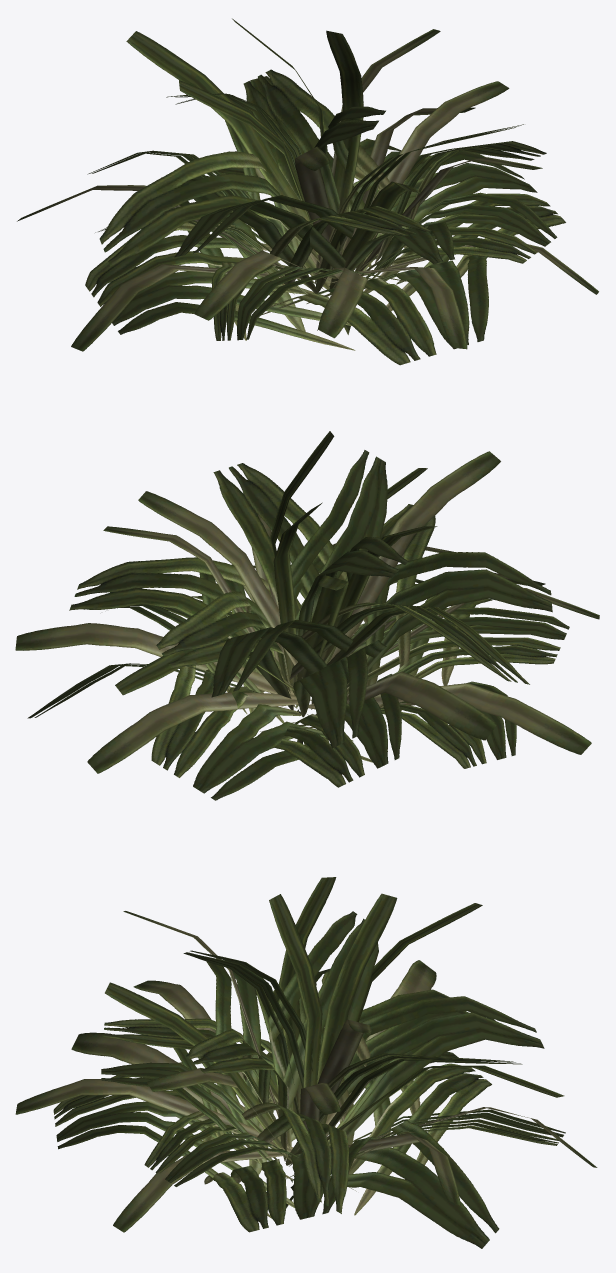
The model's file is reeds2.glb.
The picture shows the model from 3 angles, top to bottom: view 1: azimuth 30°, elevation 25°; view 2: azimuth 150°, elevation 25°; view 3: azimuth 270°, elevation 25°; orthographic projection.
Visible parts, largest first — view 1: Reeds2; view 2: Reeds2; view 3: Reeds2.
Boxes of the visible parts, <box> form: Reeds2: <box>17,18,598,365</box>; Reeds2: <box>15,431,599,800</box>; Reeds2: <box>15,877,597,1248</box>.
Bounding box in the file's own units: 3.85 × 2.39 × 3.98.
1 material, 1 textured.
